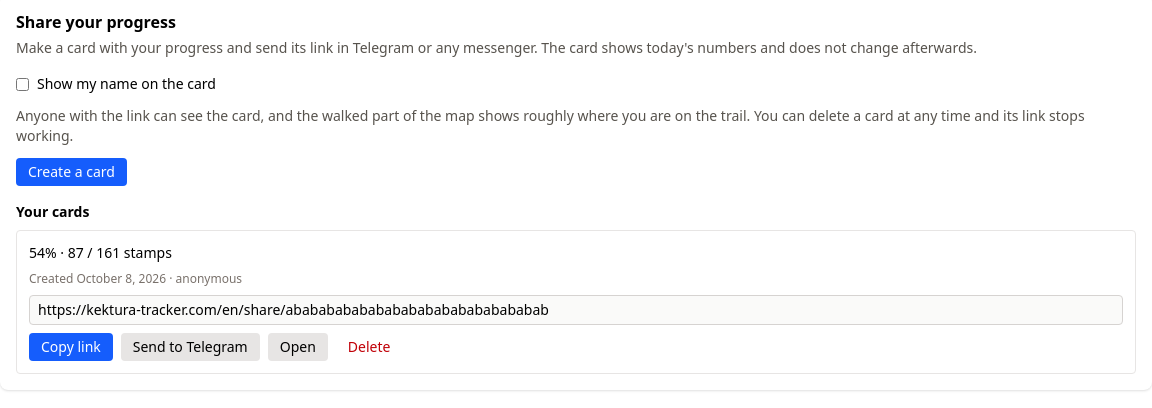
Test case: spec 0039: the share panel › AC-6: a card in the list › copies the link to the clipboard and says so
Step 1. Click the button "Copy link" → point(71, 347), box left=29, top=333, right=113, bottom=361
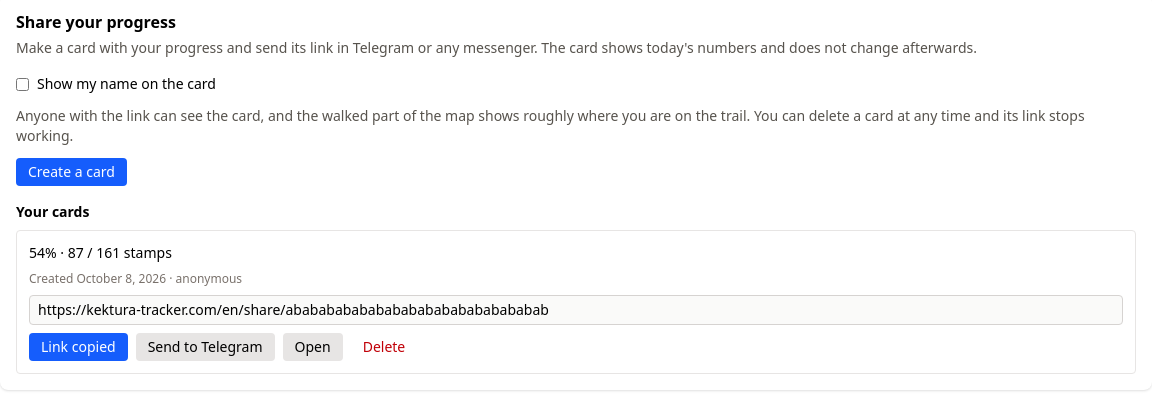
Check: the button "Link copied" is shown, box left=29, top=333, right=128, bottom=361
